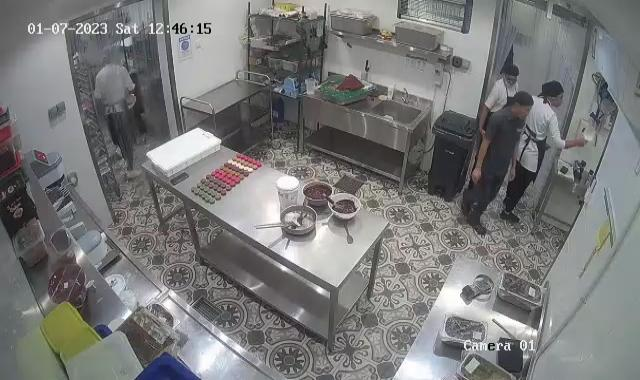no_hairnet: (542, 80, 565, 104), (513, 90, 534, 114), (502, 63, 518, 85)
